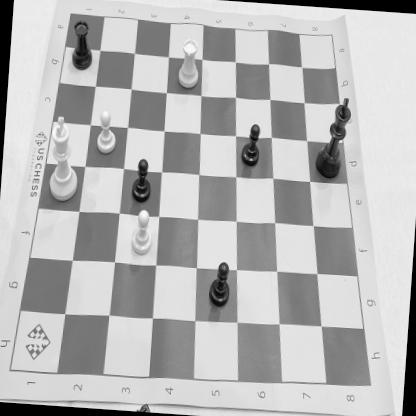king: (42, 110, 88, 208), (310, 91, 355, 185)
pawn: (201, 256, 237, 315), (234, 115, 268, 174), (125, 206, 159, 262), (126, 152, 157, 208), (91, 106, 121, 156)
rook: (172, 34, 206, 98), (66, 14, 99, 78)
